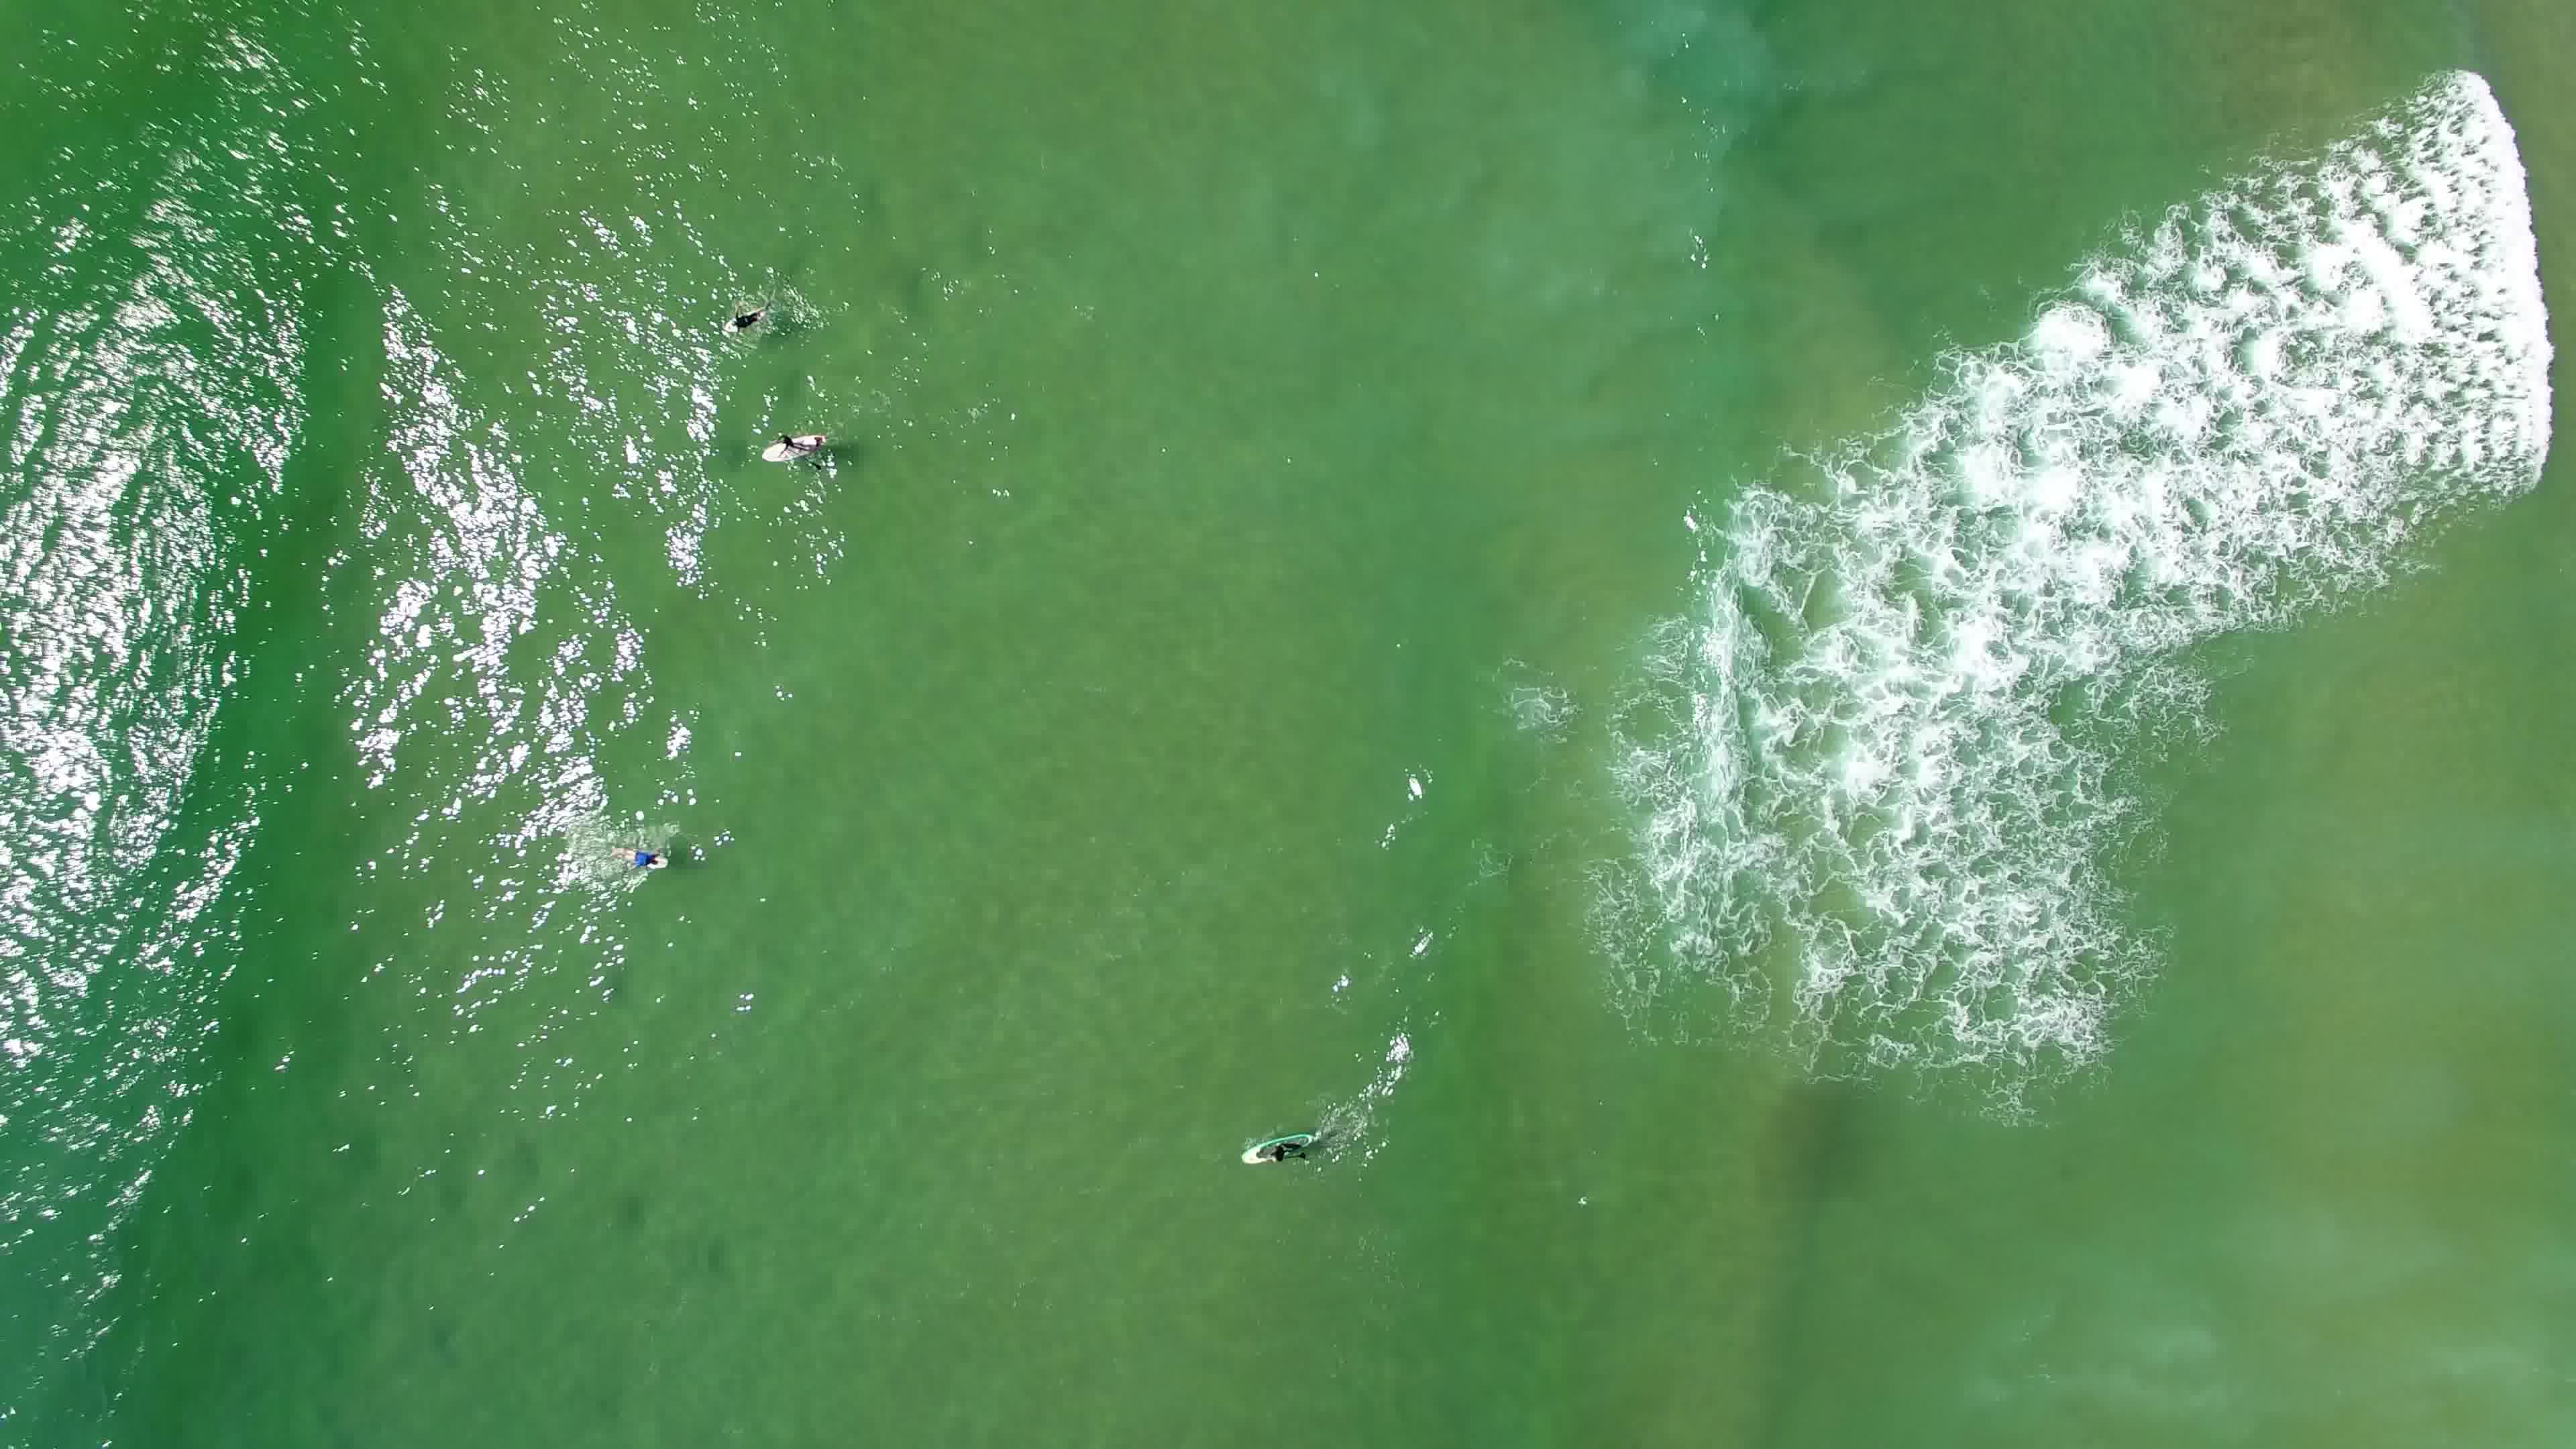surfer: (757, 418, 837, 469), (600, 830, 678, 878), (1235, 1129, 1318, 1171), (720, 292, 784, 345)
